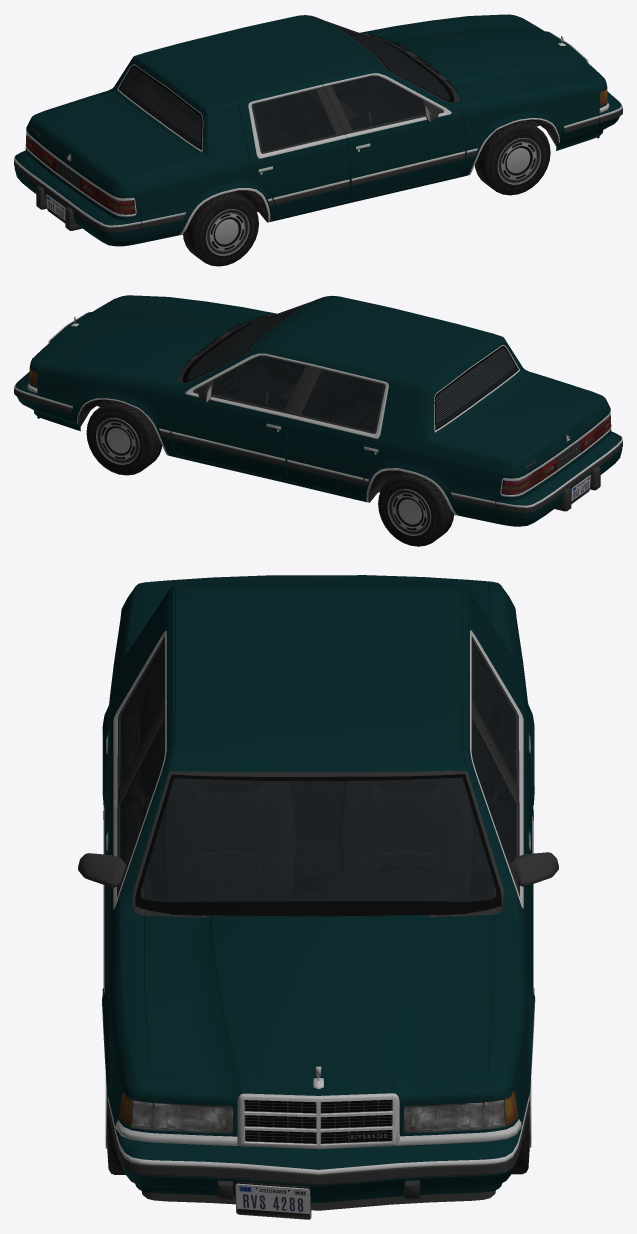
3 views of the same model, one above another, from view 1: azimuth 30°, elevation 25°; view 2: azimuth 150°, elevation 25°; view 3: azimuth 270°, elevation 25° (orthographic). The views are drawn at different scales.
Visible parts, largest first — view 1: Riverside88_Body_Riverside88_Bodymat_0, Riverside88_Interior_UCB_Interiors_2_0, Riverside88_bottom_UCB_BOTTOM_0, Riverside88_Hood_Riverside88_Bodymat_0, Riverside88_Trunk_door_Riverside88_Bodymat_0, Riverside88_WheelStock_FR_RB1c_Tire_1k_0, Riverside88_WheelStock_RR_RB1c_Tire_1k_0, Riverside88_Body_Glass_UCB_Lights_and_Glass_Transperent_0, Riverside88_Glass_Passenger_UCB_Lights_and_Glass_Transperent, Riverside88_Rear_window_UCB_Lights_and_Glass_Transperent_0, Riverside88_Bumper_rear_Riverside88_Bodymat_0, Riverside88_Windshield_UCB_Lights_and_Glass_Transperent_0 (+3 smaller); view 2: Riverside88_Body_Riverside88_Bodymat_0, Riverside88_Interior_UCB_Interiors_2_0, Riverside88_bottom_UCB_BOTTOM_0, Riverside88_Hood_Riverside88_Bodymat_0, Riverside88_Trunk_door_Riverside88_Bodymat_0, Riverside88_WheelStock_FL_RB1c_Tire_1k_0, Riverside88_WheelStock_FR_RB1c_Tire_1k_0, Riverside88_Body_Glass_UCB_Lights_and_Glass_Transperent_0, Riverside88_Glass_Driver_UCB_Lights_and_Glass_Transperent_0, Riverside88_Rear_window_UCB_Lights_and_Glass_Transperent_0, Riverside88_Bumper_rear_Riverside88_Bodymat_0, Riverside88_Windshield_UCB_Lights_and_Glass_Transperent_0 (+3 smaller); view 3: Riverside88_Body_Riverside88_Bodymat_0, Riverside88_Hood_Riverside88_Bodymat_0, Riverside88_Interior_UCB_Interiors_2_0, Riverside88_Windshield_UCB_Lights_and_Glass_Transperent_0, Riverside88_bottom_UCB_BOTTOM_0, Riverside88_Bumper_Front_Riverside88_Bodymat_0, Riverside88_Bumper_Front_inner_UCB_BOTTOM_0, Riverside88_Headlights_Glass_UCB_Lights_and_Glass_Transperen, Riverside88_Body_Glass_UCB_Lights_and_Glass_Transperent_0, Riverside88_Headlights_UCB_Lights_and_Glass_0, Riverside88_Trunk_door_Riverside88_Bodymat_0, Riverside88_Glass_Driver_UCB_Lights_and_Glass_Transperent_0 (+2 smaller).
Part boxes in pixels (x1=…): Riverside88_Body_Riverside88_Bodymat_0: x1=25, y1=14, x2=607, y2=243; Riverside88_Interior_UCB_Interiors_2_0: x1=120, y1=26, x2=448, y2=151; Riverside88_bottom_UCB_BOTTOM_0: x1=25, y1=17, x2=609, y2=235; Riverside88_Hood_Riverside88_Bodymat_0: x1=373, y1=16, x2=592, y2=98; Riverside88_Trunk_door_Riverside88_Bodymat_0: x1=28, y1=90, x2=201, y2=195; Riverside88_WheelStock_FR_RB1c_Tire_1k_0: x1=475, y1=120, x2=550, y2=195; Riverside88_WheelStock_RR_RB1c_Tire_1k_0: x1=183, y1=191, x2=258, y2=266; Riverside88_Body_Glass_UCB_Lights_and_Glass_Transperent_0: x1=253, y1=90, x2=335, y2=151; Riverside88_Glass_Passenger_UCB_Lights_and_Glass_Transperent: x1=332, y1=76, x2=425, y2=130; Riverside88_Rear_window_UCB_Lights_and_Glass_Transperent_0: x1=120, y1=67, x2=201, y2=148; Riverside88_Bumper_rear_Riverside88_Bodymat_0: x1=14, y1=150, x2=141, y2=246; Riverside88_Windshield_UCB_Lights_and_Glass_Transperent_0: x1=326, y1=21, x2=449, y2=99; Riverside88_Body_Riverside88_Bodymat_0: x1=29, y1=295, x2=611, y2=523; Riverside88_Interior_UCB_Interiors_2_0: x1=188, y1=307, x2=516, y2=431; Riverside88_bottom_UCB_BOTTOM_0: x1=27, y1=297, x2=611, y2=515; Riverside88_Hood_Riverside88_Bodymat_0: x1=45, y1=297, x2=263, y2=379; Riverside88_Trunk_door_Riverside88_Bodymat_0: x1=435, y1=371, x2=608, y2=475; Riverside88_WheelStock_FL_RB1c_Tire_1k_0: x1=86, y1=400, x2=162, y2=475; Riverside88_WheelStock_FR_RB1c_Tire_1k_0: x1=378, y1=471, x2=453, y2=546; Riverside88_Body_Glass_UCB_Lights_and_Glass_Transperent_0: x1=301, y1=370, x2=383, y2=432; Riverside88_Glass_Driver_UCB_Lights_and_Glass_Transperent_0: x1=211, y1=357, x2=305, y2=410; Riverside88_Rear_window_UCB_Lights_and_Glass_Transperent_0: x1=435, y1=348, x2=517, y2=428; Riverside88_Bumper_rear_Riverside88_Bodymat_0: x1=495, y1=431, x2=622, y2=526; Riverside88_Windshield_UCB_Lights_and_Glass_Transperent_0: x1=187, y1=301, x2=312, y2=379; Riverside88_Body_Riverside88_Bodymat_0: x1=102, y1=580, x2=534, y2=1136; Riverside88_Hood_Riverside88_Bodymat_0: x1=144, y1=915, x2=492, y2=1074; Riverside88_Interior_UCB_Interiors_2_0: x1=121, y1=643, x2=515, y2=901; Riverside88_Windshield_UCB_Lights_and_Glass_Transperent_0: x1=140, y1=777, x2=496, y2=902; Riverside88_bottom_UCB_BOTTOM_0: x1=78, y1=630, x2=558, y2=1149; Riverside88_Bumper_Front_Riverside88_Bodymat_0: x1=116, y1=1129, x2=521, y2=1202; Riverside88_Bumper_Front_inner_UCB_BOTTOM_0: x1=115, y1=1131, x2=521, y2=1217; Riverside88_Headlights_Glass_UCB_Lights_and_Glass_Transperen: x1=119, y1=1091, x2=517, y2=1133; Riverside88_Body_Glass_UCB_Lights_and_Glass_Transperent_0: x1=120, y1=641, x2=516, y2=784; Riverside88_Headlights_UCB_Lights_and_Glass_0: x1=132, y1=1100, x2=505, y2=1132; Riverside88_Trunk_door_Riverside88_Bodymat_0: x1=147, y1=575, x2=489, y2=622; Riverside88_Glass_Driver_UCB_Lights_and_Glass_Transperent_0: x1=472, y1=718, x2=516, y2=863.
Size of the model in its own units: 4.91 by 1.32 by 1.91.
8 materials, 7 textured.
